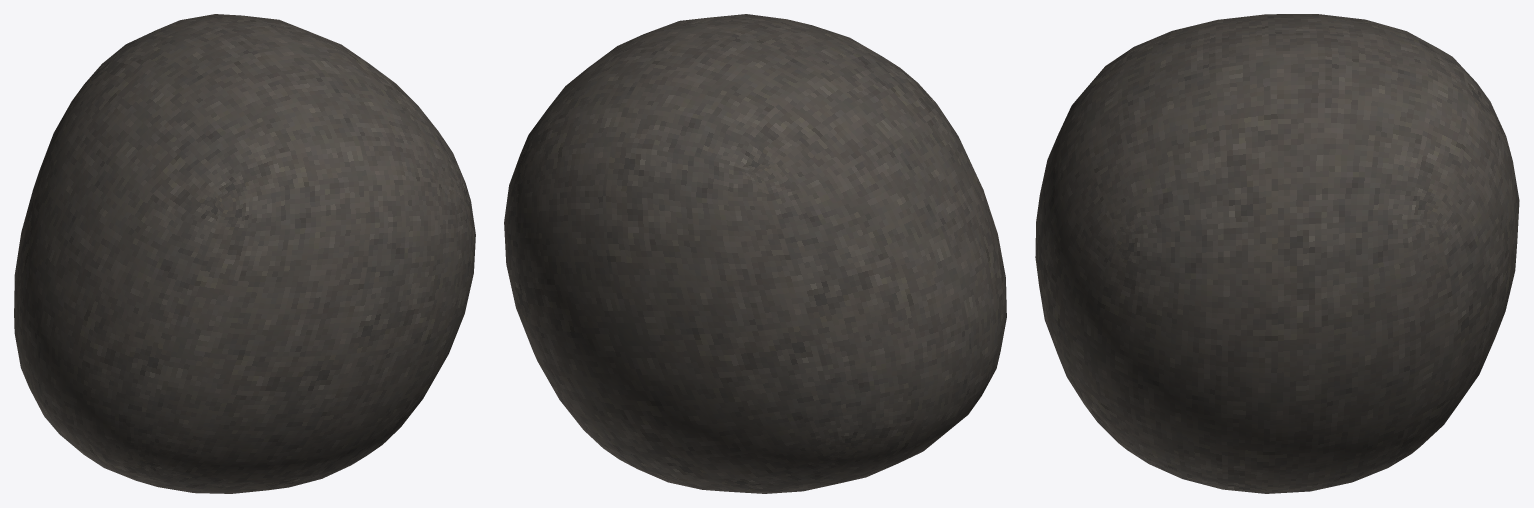
File: rock2.glb
The picture shows the model from 3 angles, left to right: view 1: azimuth 30°, elevation 25°; view 2: azimuth 150°, elevation 25°; view 3: azimuth 270°, elevation 25°; orthographic projection. The views are drawn at different scales.
Visible parts, largest first — view 1: Rock5; view 2: Rock5; view 3: Rock5.
Boxes of the visible parts, box(x1,y1,x2,y2) form: Rock5: box(14, 14, 475, 493); Rock5: box(504, 14, 1006, 493); Rock5: box(1035, 14, 1519, 493).
Size of the model in its own units: 7.44 by 7.25 by 7.19.
1 material, 1 textured.
